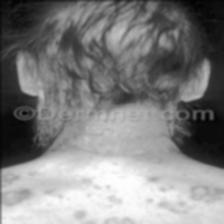Unclassified: (43, 179, 184, 224), (72, 121, 169, 159), (0, 174, 35, 212), (180, 182, 224, 208)
